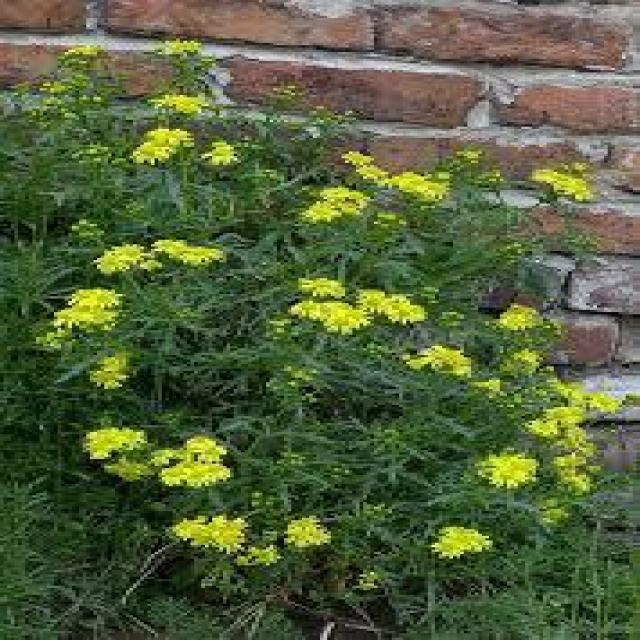organic waste: (354, 153, 455, 207), (147, 436, 234, 496), (119, 134, 198, 189), (165, 509, 248, 549), (291, 298, 363, 342), (527, 165, 602, 206), (153, 237, 239, 270), (65, 279, 122, 327), (81, 238, 160, 272), (530, 390, 628, 417), (296, 189, 376, 220), (482, 452, 546, 488), (74, 427, 146, 457), (510, 405, 582, 434), (282, 509, 333, 547), (149, 90, 221, 116), (416, 351, 476, 382), (372, 295, 423, 329), (296, 272, 351, 302), (140, 121, 205, 146), (493, 300, 543, 331), (160, 34, 210, 63), (441, 525, 484, 556), (564, 450, 594, 482), (495, 346, 541, 364), (216, 145, 244, 167)
